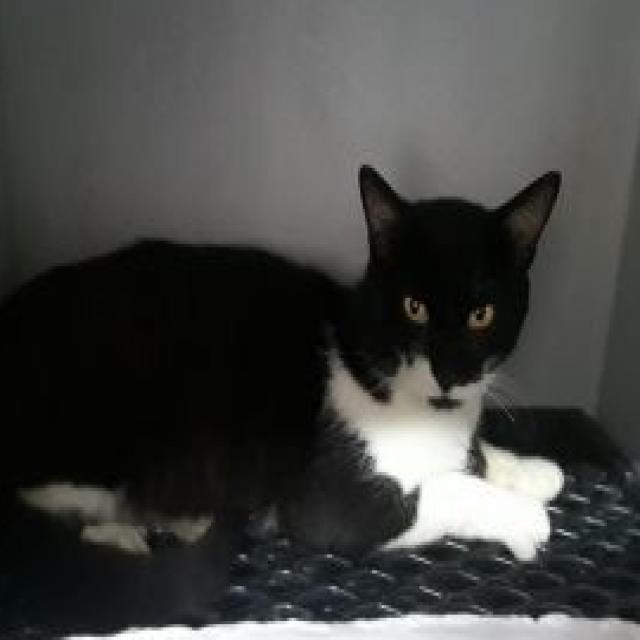Tuxedo: (0, 162, 567, 621)
